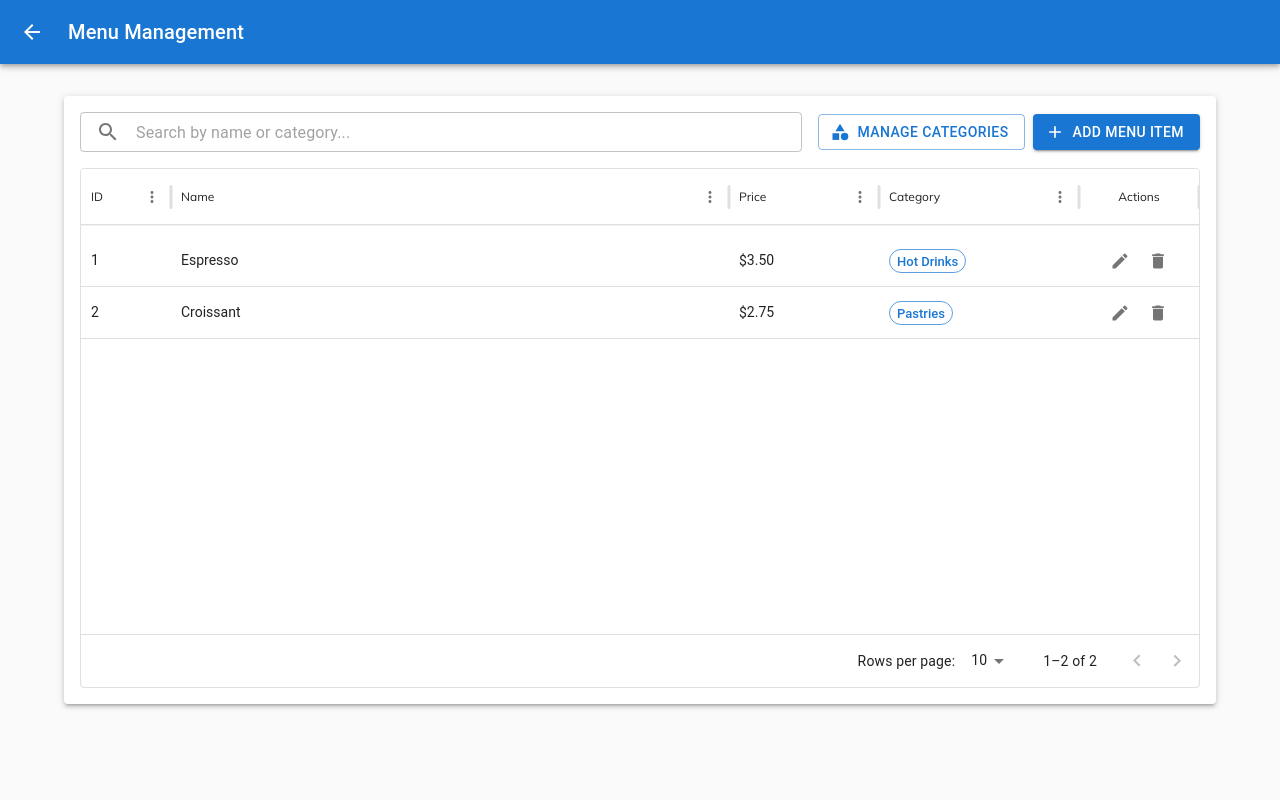
Menu Component › should filter menu items based on the search term
Expected: the text "Espresso" is shown, [181, 252, 238, 268]
Expected: the text "Croissant" is shown, [171, 286, 729, 338]
# Find the search input and simulate typing
Type "Croissant" into the field with placeholder "Search by name or category...".
click(465, 132); type("Croissant")  # box [128, 112, 802, 152]
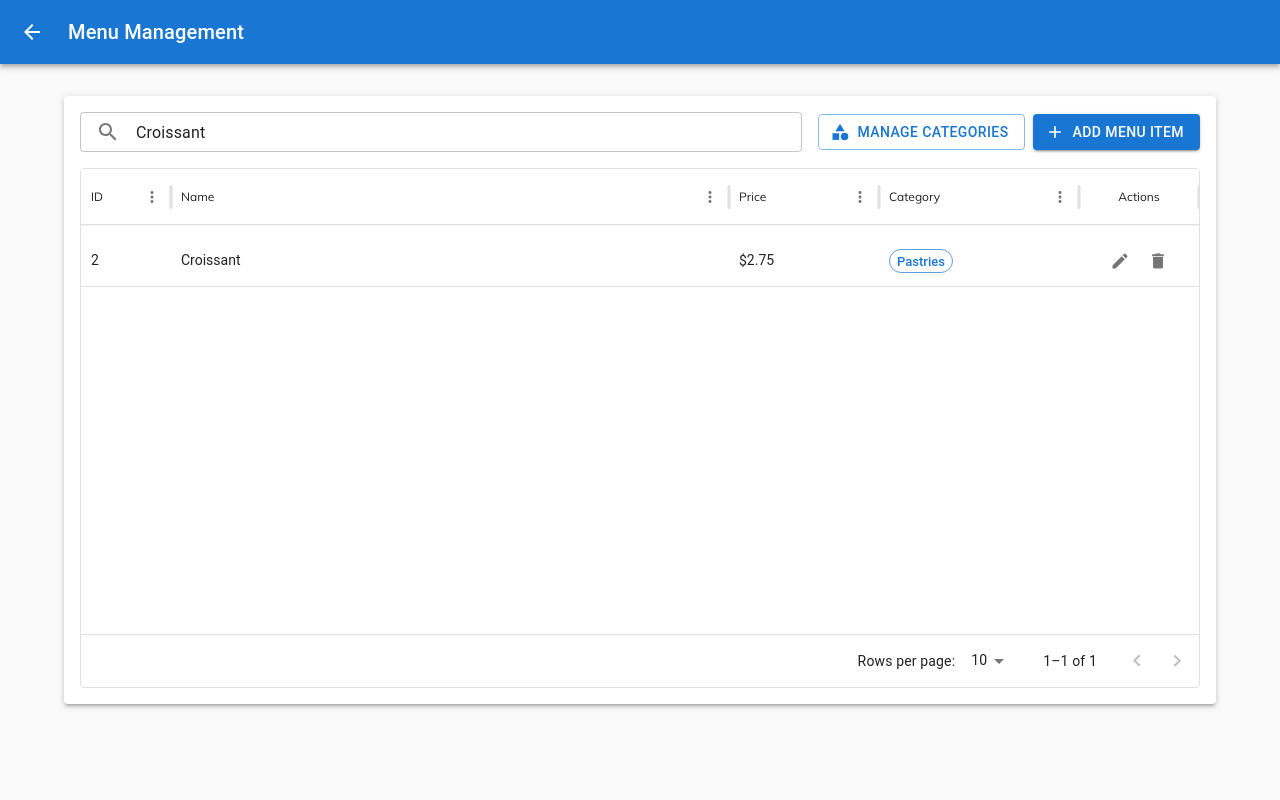
Expected: the text "Croissant" is shown, [181, 252, 240, 268]
Now the text "Espresso" is gone
# Simulate clearing the search to see if all items return
Clear the field with placeholder "Search by name or category..." at coordinates (465, 132), box [128, 112, 802, 152]
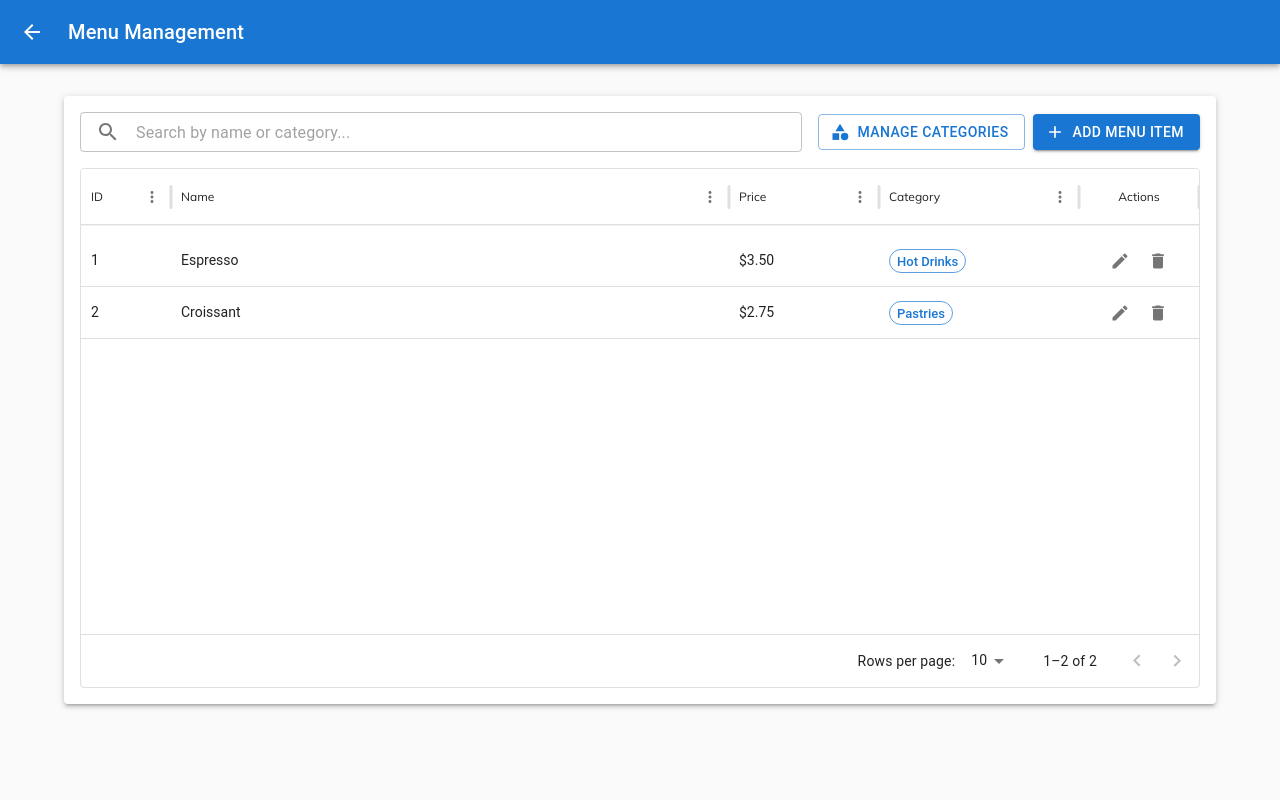
Expected: the text "Croissant" is shown, [171, 286, 729, 338]
Now the text "Espresso" is shown, box [181, 252, 238, 268]
